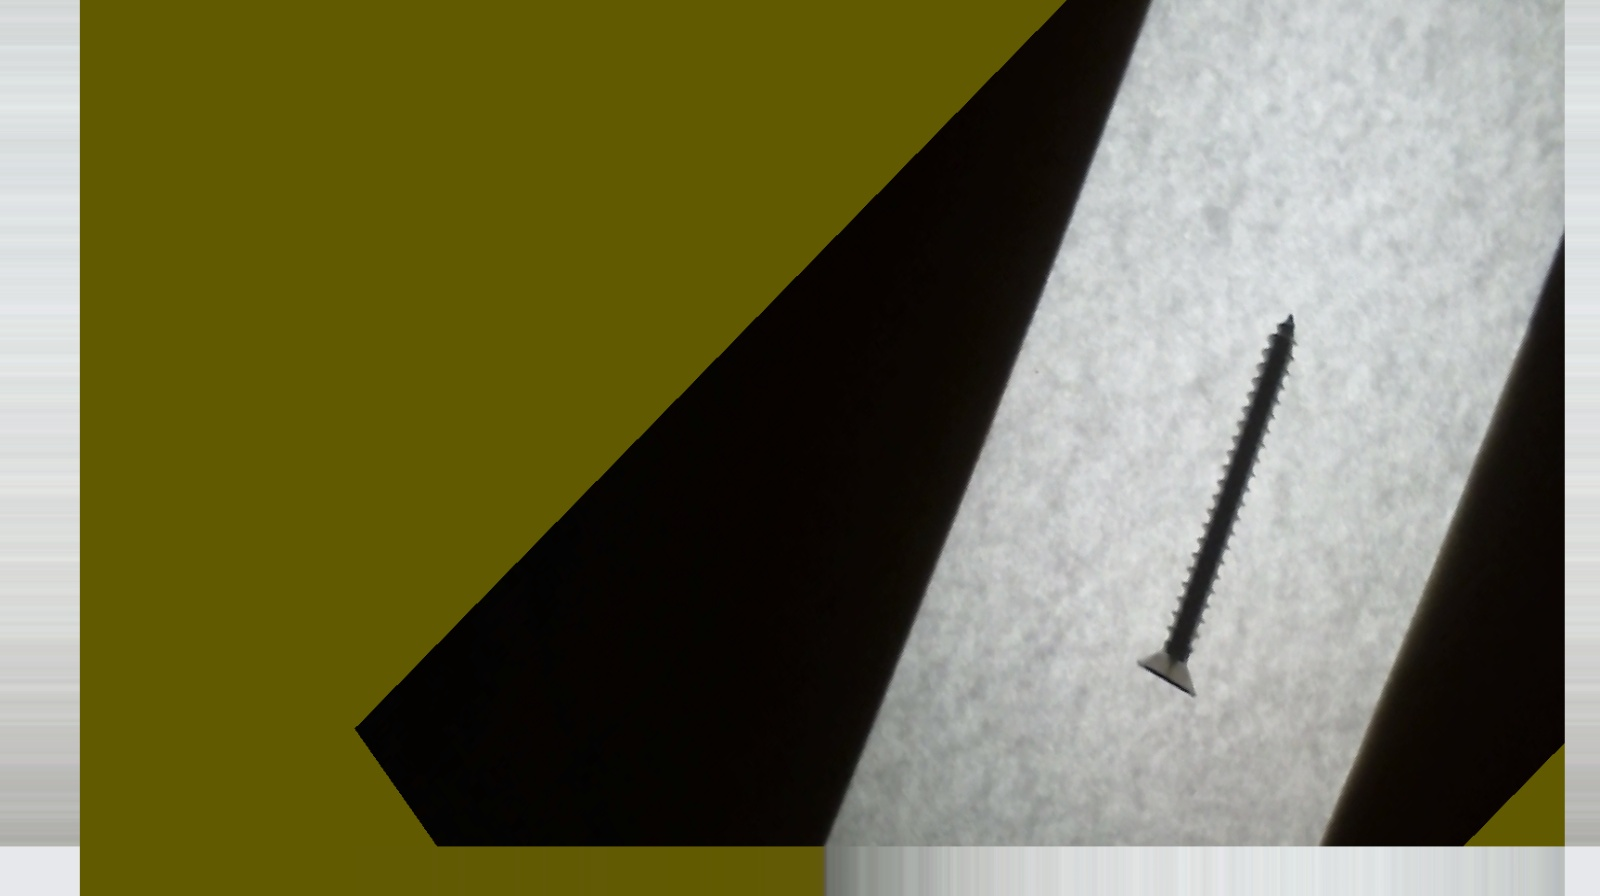S002: (1053, 305, 1411, 720)
